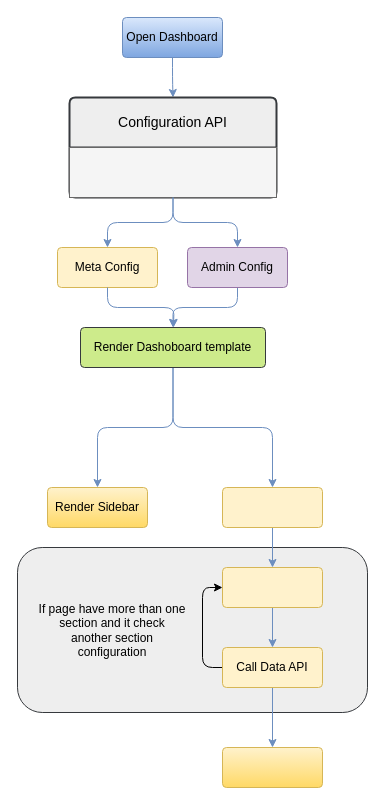
Some shapes in this 385 by 805 pixel diagram are drawn without their labels. The shapes that lost their labels are listed below. From the top down, each one's centre as x and y in pixels, then its label:
At [172,172]: "+ Admin Config + Meta, Header and footer config".
At [272,507]: "Load Page Configuration".
At [272,587]: "Render Template".
At [272,767]: "Render Page/UI".
